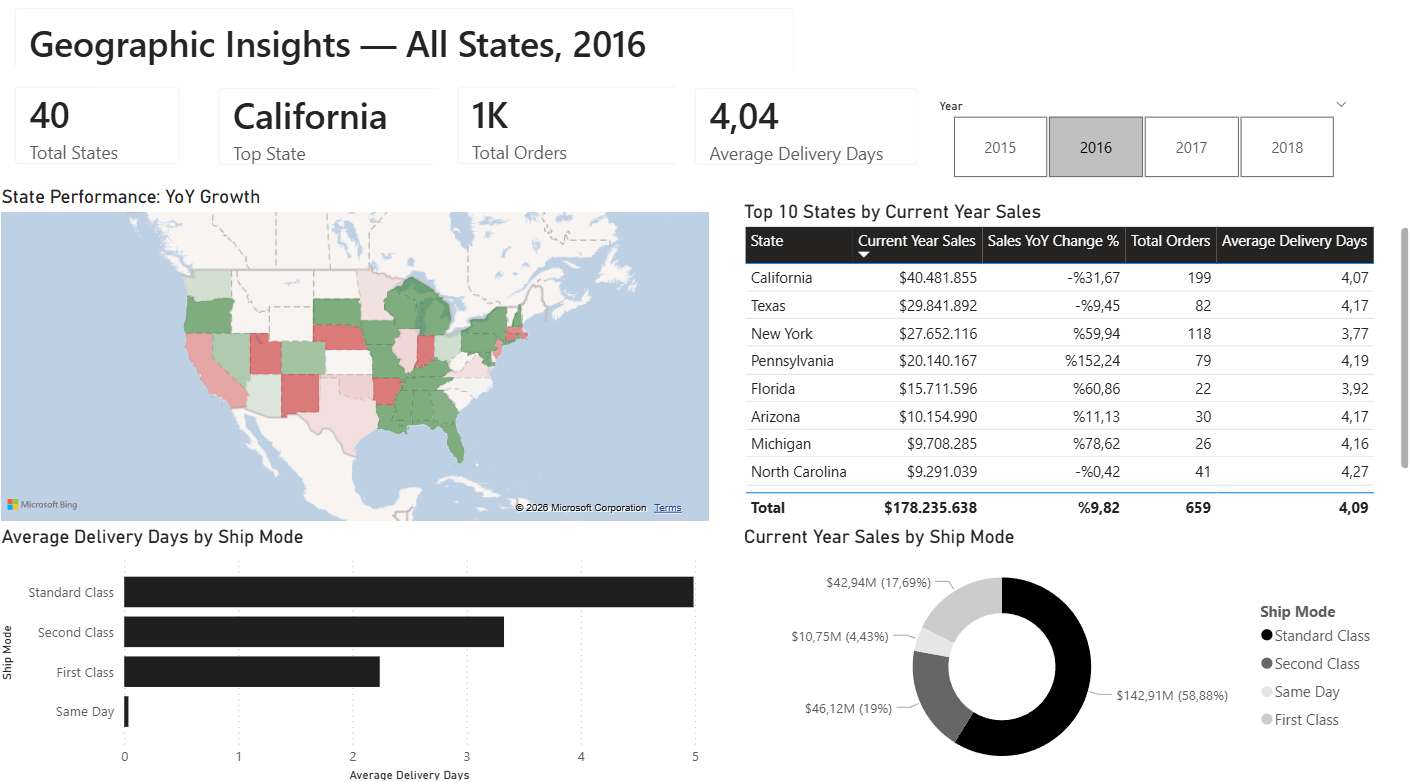

The page's visual inventory and layout, read from the dashboard file:
{"tool":"powerbi","page":{"name":"Geographic Insights","canvas":[1280,720],"ordinal":1},"visuals":[{"type":"tableEx","title":"Top 10 States by Current Year Sales","fields":{"Values":["Dim_Customer.State","_Measures.Current Year Sales","_Measures.Sales YoY Change %","_Measures.Total Orders","_Measures.Average Delivery Days"]},"box":[669.3,190.3,610.8,293.6],"z":0},{"type":"filledMap","title":"State Performance: YoY Growth","fields":{"Category":["Dİm_Customer.State"]},"box":[0,176.6,648.1,307.3],"z":1000},{"type":"cardVisual","fields":{"Data":["_Measures.Geographic Title"]},"box":[0,0,737.7,93.3],"z":2000},{"type":"cardVisual","fields":{"Data":["_Measures.Total States"]},"box":[0,70.9,183.8,104.2],"z":2000,"group":"g1"},{"type":"group","id":"g1","title":"Group 1","box":[0,70.9,848.4,105.7],"z":3000},{"type":"cardVisual","fields":{"Data":["_Measures.Top State"]},"box":[183.8,71.7,235.3,104.2],"z":3000,"group":"g1"},{"type":"cardVisual","fields":{"Data":["_Measures.Total Orders"]},"box":[398.5,70.9,235.3,104.2],"z":4000,"group":"g1"},{"type":"barChart","fields":{"Category":["Fact_Table.Ship Mode"],"Y":["_Measures.Average Delivery Days"]},"box":[0,483.9,639.4,236.4],"z":4000},{"type":"cardVisual","fields":{"Data":["_Measures.Average Delivery Days"]},"box":[613.1,72.5,235.3,104.2],"z":5000,"group":"g1"},{"type":"donutChart","fields":{"Category":["Fact_Table.Ship Mode"],"Y":["_Measures.Current Year Sales"]},"box":[669.3,483.9,583.4,236.4],"z":5000},{"type":"slicer","fields":{"Values":["Dim_Date.Year"]},"box":[837.2,93.3,393.1,83.3],"z":6000}]}

Visuals, with their boxes in screenshot pixels (x1, y1, x2, y2), scaled from the page's 1280x720 canvas onto the 1412x782 screenshot:
"Top 10 States by Current Year Sales" tableEx: locate(738, 207, 1411, 526)
"State Performance: YoY Growth" filledMap: locate(0, 192, 715, 526)
cardVisual - _Measures.Geographic Title: locate(0, 0, 814, 101)
cardVisual - _Measures.Total States: locate(0, 77, 203, 190)
"Group 1" group: locate(0, 77, 936, 192)
cardVisual - _Measures.Top State: locate(203, 78, 462, 191)
cardVisual - _Measures.Total Orders: locate(440, 77, 699, 190)
barChart - Fact_Table.Ship Mode x _Measures.Average Delivery Days: locate(0, 526, 705, 781)
cardVisual - _Measures.Average Delivery Days: locate(676, 79, 936, 192)
donutChart - Fact_Table.Ship Mode x _Measures.Current Year Sales: locate(738, 526, 1382, 781)
slicer - Dim_Date.Year: locate(924, 101, 1357, 192)
